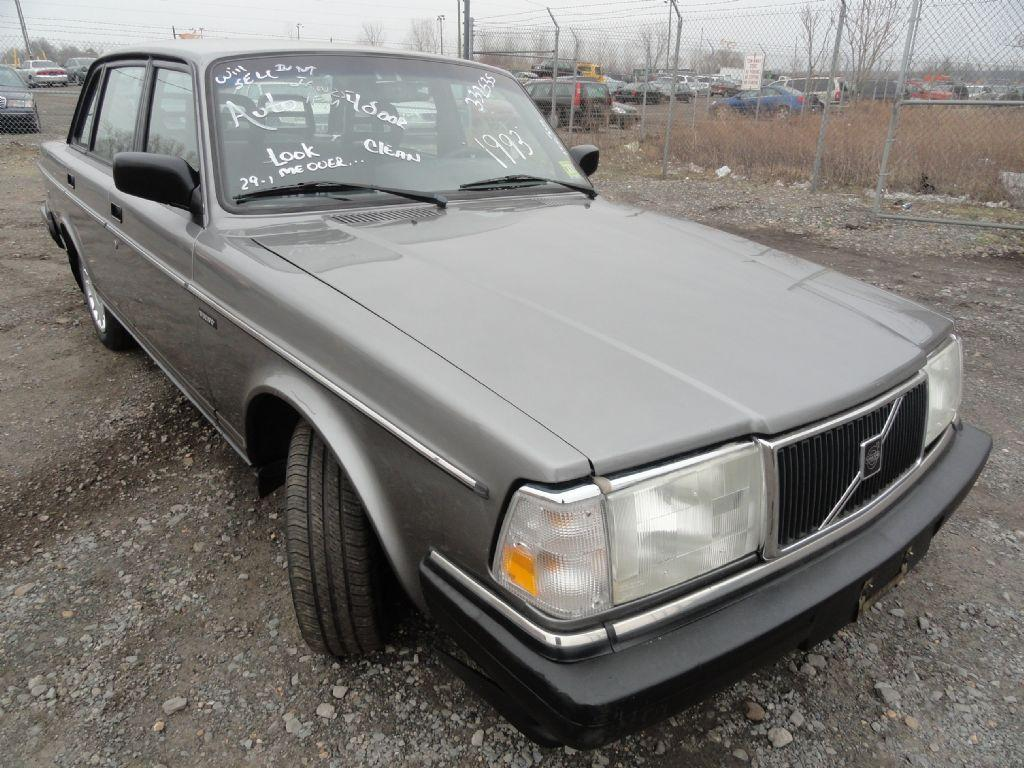volvo: (848, 426, 896, 488)
